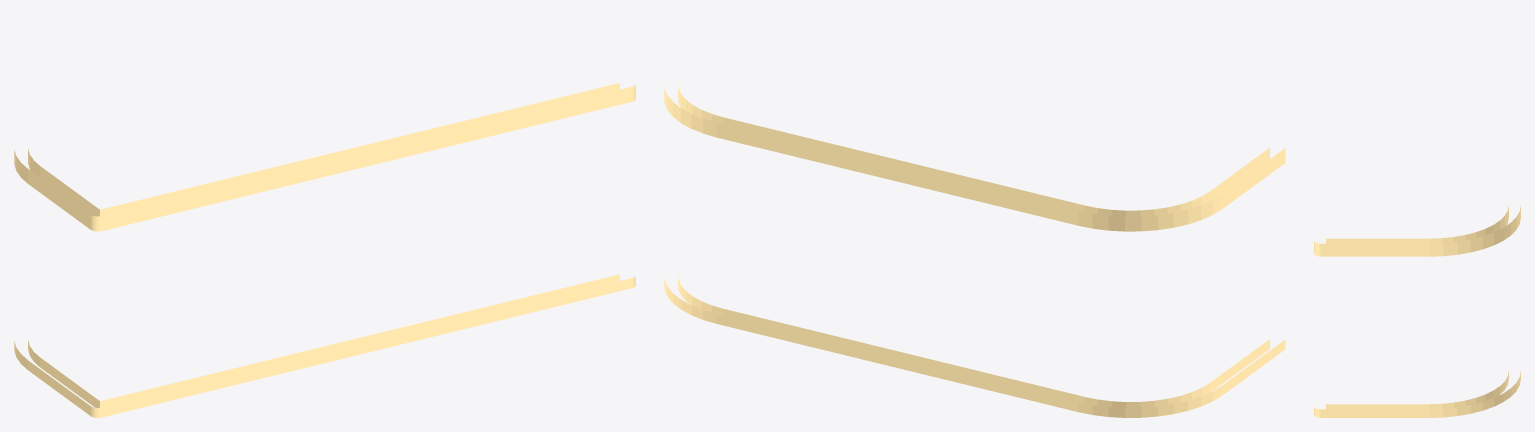
File: mw_strip_n.glb
3 renders of one model, left to right at view 1: azimuth 30°, elevation 25°; view 2: azimuth 150°, elevation 25°; view 3: azimuth 270°, elevation 25°, orthographic. The views are drawn at different scales.
Parts seen in each view (by area): view 1: strip; view 2: strip; view 3: strip.
Part boxes in pixels (left/top/right/bottom): strip: left=14, top=83, right=635, bottom=417; strip: left=664, top=83, right=1285, bottom=417; strip: left=1314, top=205, right=1520, bottom=417.
Size of the model in its own units: 2.26 by 0.8 by 0.86.
